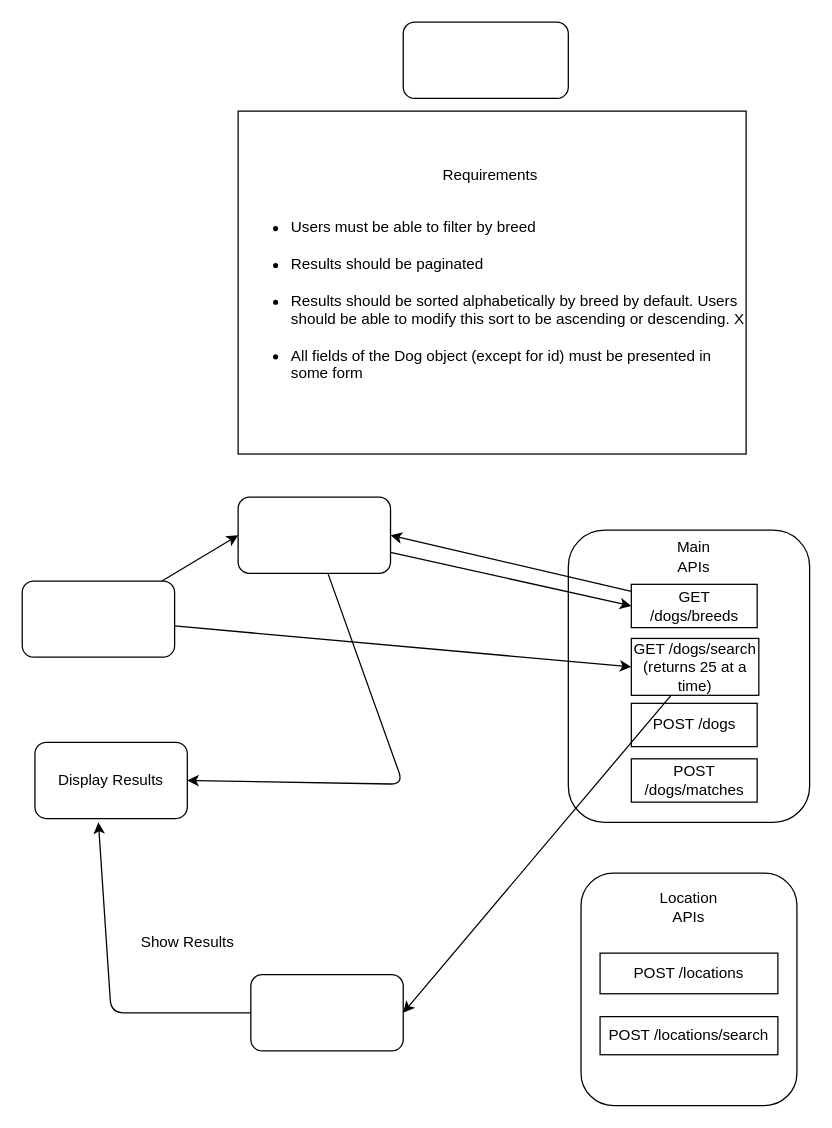
This 832x1128 diagram has some shape labels left out. Here are the shapes that lost their labels. From the top down, the centre of each, then its label:
At (485,59): "Dashboard/Search UI".
At (314,534): "Filter: - By Breed - Alphabetical - Location".
At (98,618): "Dashboard/Search".
At (326,1012): "Sort Descending Alpahbetical By BREED".
